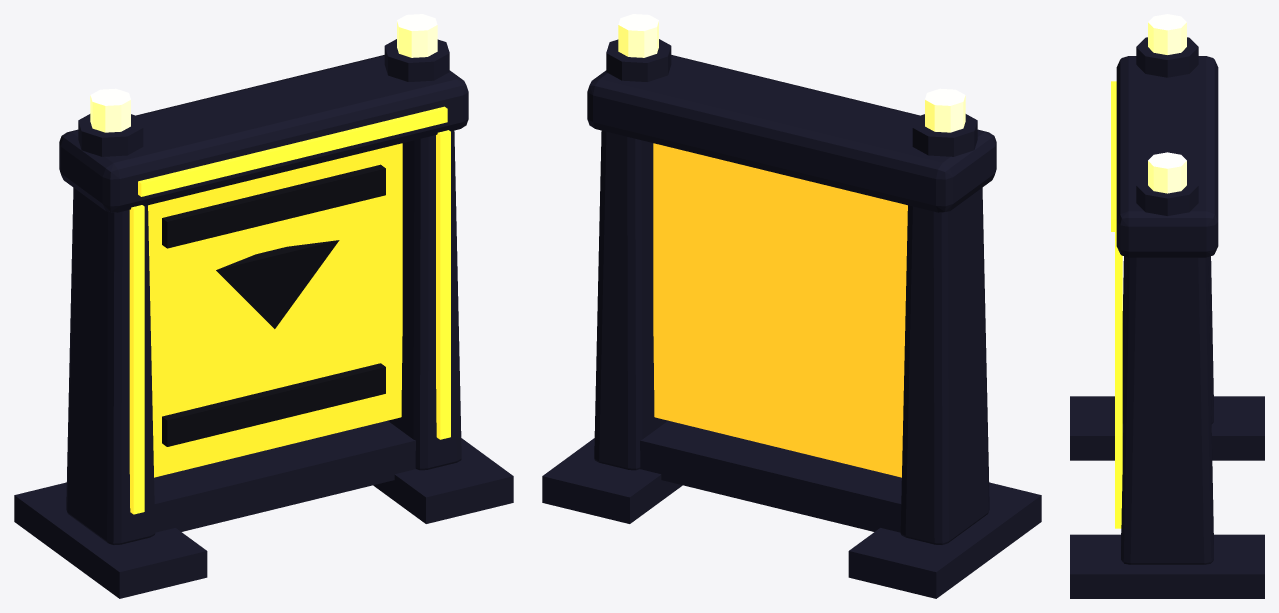
The model's file is wall.glb.
The picture shows the model from 3 angles, left to right: view 1: azimuth 30°, elevation 25°; view 2: azimuth 150°, elevation 25°; view 3: azimuth 270°, elevation 25°; orthographic projection. The views are drawn at different scales.
Visible parts, largest first — view 1: panel, beam, post-mirror, sill, post, foot-mirror, hazard-bar-top, hazard-bar, foot, beam-trim, chevron, post-trim-mirror (+5 smaller); view 2: panel, beam, post-mirror, post, sill, foot-mirror, foot, lamp-base, lamp-base-mirror, lamp, lamp-mirror; view 3: post, beam, foot, foot-mirror, post-trim, lamp-base-mirror, lamp-base, lamp-mirror, lamp, post-mirror, beam-trim.
Part boxes in pixels (box(x1,y1,x2,y2)): panel: box(148, 143, 402, 477); beam: box(59, 55, 468, 212); post-mirror: box(66, 187, 155, 544); sill: box(154, 420, 415, 532); post: box(388, 130, 461, 470); foot-mirror: box(14, 482, 207, 598); hazard-bar-top: box(162, 164, 385, 248); hazard-bar: box(162, 363, 385, 446); foot: box(373, 438, 513, 523); beam-trim: box(138, 106, 447, 196); chevron: box(216, 240, 339, 328); post-trim-mirror: box(129, 205, 144, 514); panel: box(653, 143, 907, 477); beam: box(587, 55, 996, 212); post-mirror: box(900, 187, 989, 544); post: box(594, 130, 667, 470); sill: box(640, 420, 901, 532); foot-mirror: box(848, 482, 1041, 598); foot: box(542, 438, 682, 523); lamp-base: box(606, 39, 671, 81); lamp-base-mirror: box(912, 114, 977, 156); lamp: box(618, 14, 658, 57); lamp-mirror: box(925, 88, 965, 132); post: box(1121, 257, 1213, 564); beam: box(1116, 56, 1218, 257); foot: box(1070, 534, 1264, 598); foot-mirror: box(1070, 396, 1264, 460); post-trim: box(1115, 241, 1122, 528); lamp-base-mirror: box(1136, 37, 1198, 77); lamp-base: box(1136, 175, 1198, 215); lamp-mirror: box(1148, 14, 1186, 54); lamp: box(1148, 152, 1186, 193); post-mirror: box(1122, 256, 1213, 423); beam-trim: box(1111, 81, 1116, 231).
Size of what is drawn, in the model's own units: 1 by 1.1 by 0.463.
